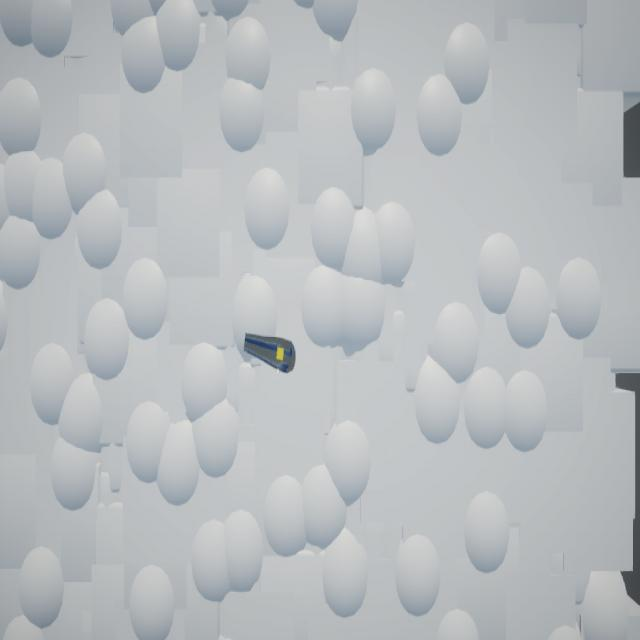handle_knife: (244, 335, 297, 376)
